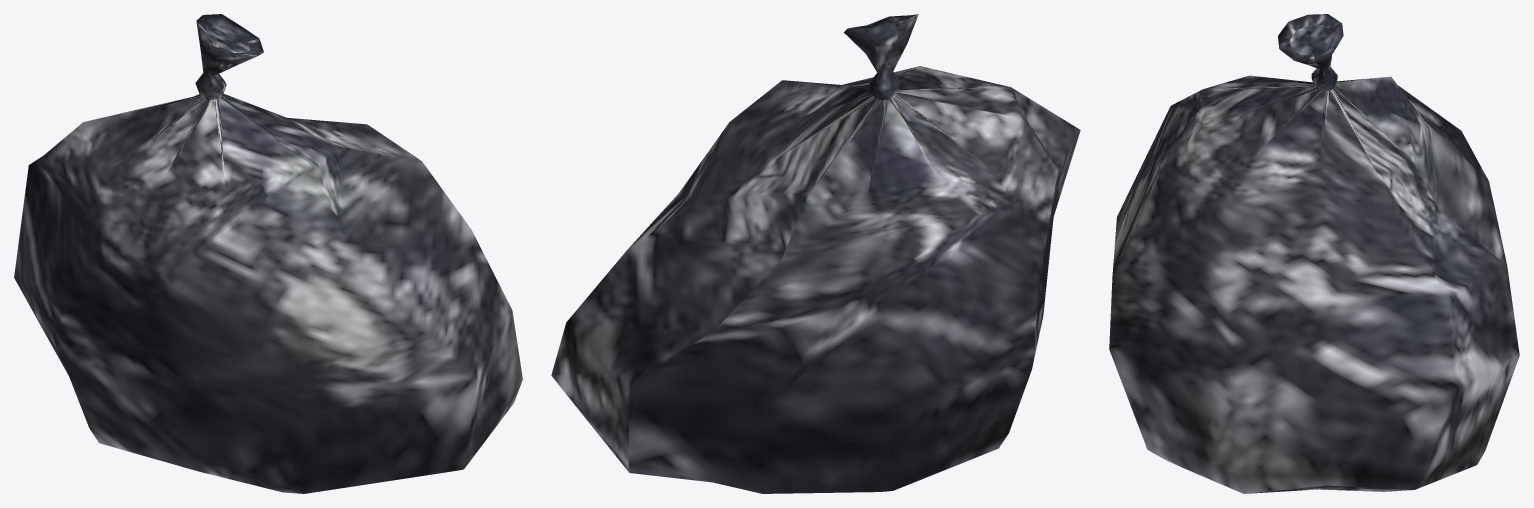
The model's file is trashbag_2.FBX.
3 views of the same model, side by side, from view 1: azimuth 30°, elevation 25°; view 2: azimuth 150°, elevation 25°; view 3: azimuth 270°, elevation 25° (orthographic). The views are drawn at different scales.
Visible parts, largest first — view 1: bag001; view 2: bag001; view 3: bag001.
Boxes of the visible parts, x1,y1,x2,y2 form: bag001: (14,14,522,493); bag001: (551,14,1080,493); bag001: (1109,14,1519,493).
Size of the model in its own units: 45.9 by 44.12 by 43.81.
Materials: 1 (1 with a texture image).
